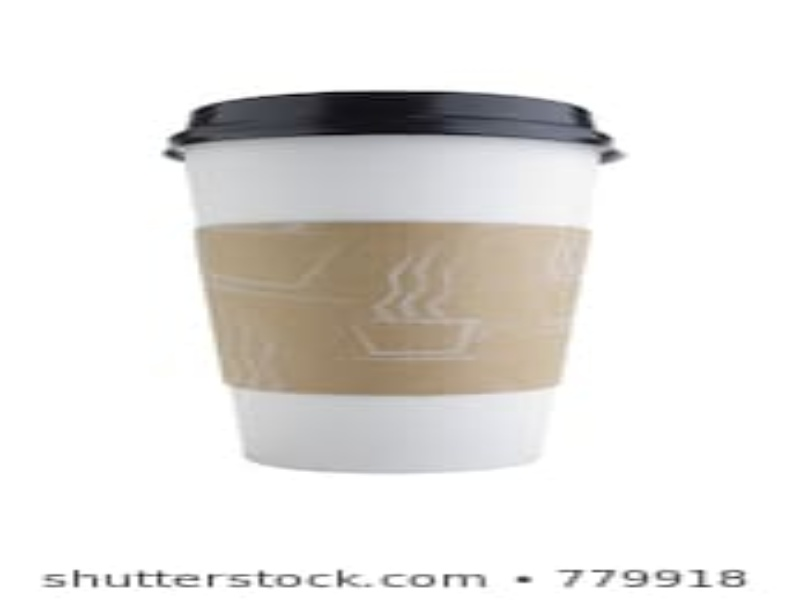coffee-lid: (160, 90, 628, 168)
plastic-cup: (158, 86, 625, 475)
